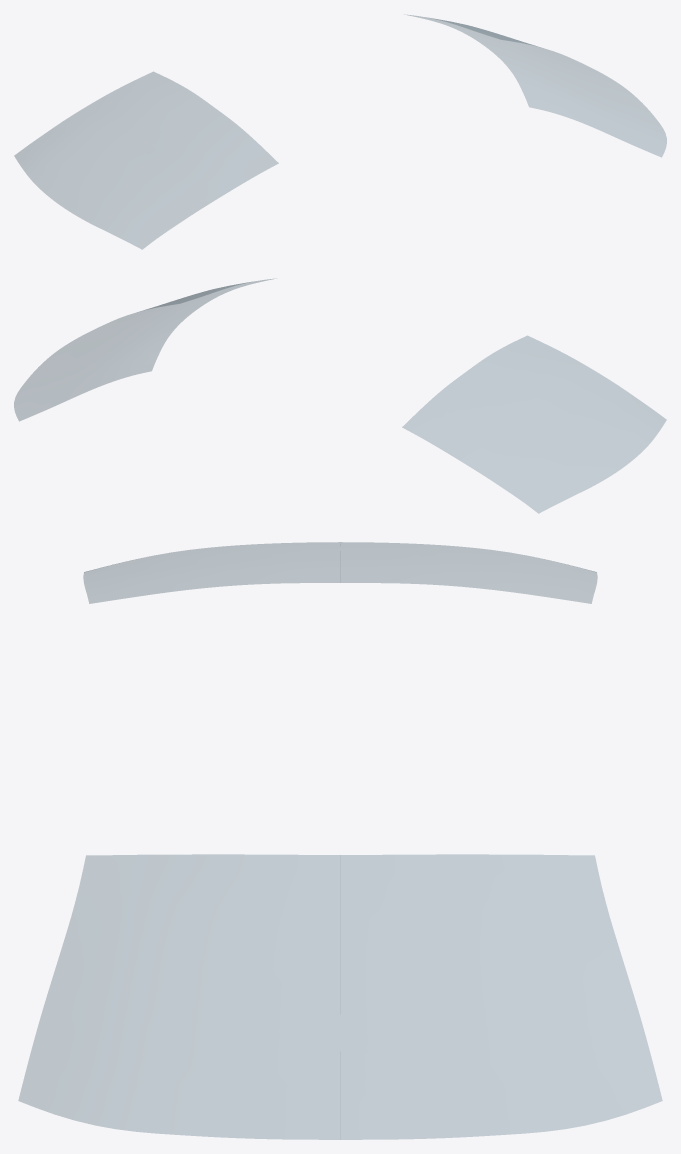
The picture shows the model from 3 angles, top to bottom: view 1: azimuth 30°, elevation 25°; view 2: azimuth 150°, elevation 25°; view 3: azimuth 270°, elevation 25°; orthographic projection. The views are drawn at different scales.
Parts seen in each view (by area): view 1: SM_DodgeCharger_Glass_Int2; view 2: SM_DodgeCharger_Glass_Int2; view 3: SM_DodgeCharger_Glass_Int2.
Boxes of the visible parts, x1=… form: SM_DodgeCharger_Glass_Int2: x1=14, y1=15, x2=666, y2=249; SM_DodgeCharger_Glass_Int2: x1=14, y1=279, x2=666, y2=513; SM_DodgeCharger_Glass_Int2: x1=18, y1=542, x2=662, y2=1139.
Size of the model in its own units: 3.03 by 0.4118 by 1.49.
